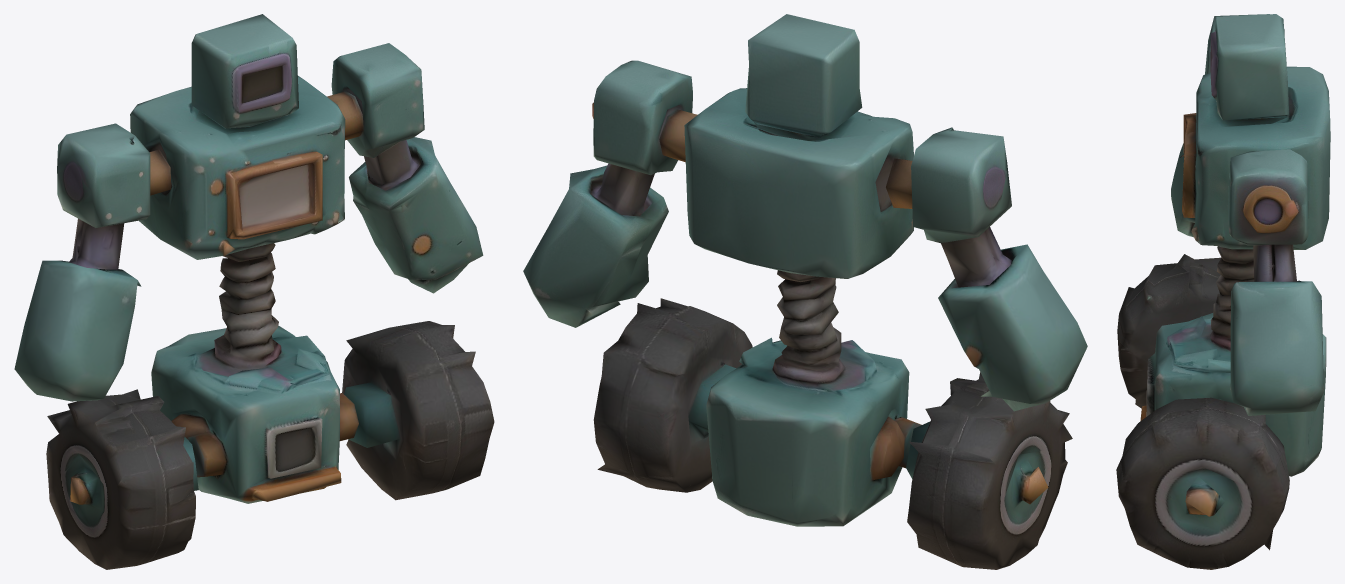
Rendered from utility_tyler_3000.glb.
The picture shows the model from 3 angles, left to right: view 1: azimuth 30°, elevation 25°; view 2: azimuth 150°, elevation 25°; view 3: azimuth 270°, elevation 25°; orthographic projection. The views are drawn at different scales.
Visible parts, largest first — view 1: tripo_node_1a434f2e-c516-4d73-a580-6bc055775d1c; view 2: tripo_node_1a434f2e-c516-4d73-a580-6bc055775d1c; view 3: tripo_node_1a434f2e-c516-4d73-a580-6bc055775d1c.
Boxes of the visible parts, x1,y1,x2,y2 form: tripo_node_1a434f2e-c516-4d73-a580-6bc055775d1c: [14, 14, 494, 569]; tripo_node_1a434f2e-c516-4d73-a580-6bc055775d1c: [523, 14, 1087, 569]; tripo_node_1a434f2e-c516-4d73-a580-6bc055775d1c: [1116, 14, 1330, 569].
Size of the model in its own units: 0.9832 by 0.9458 by 0.3985.
Materials: 1 (1 with a texture image).
